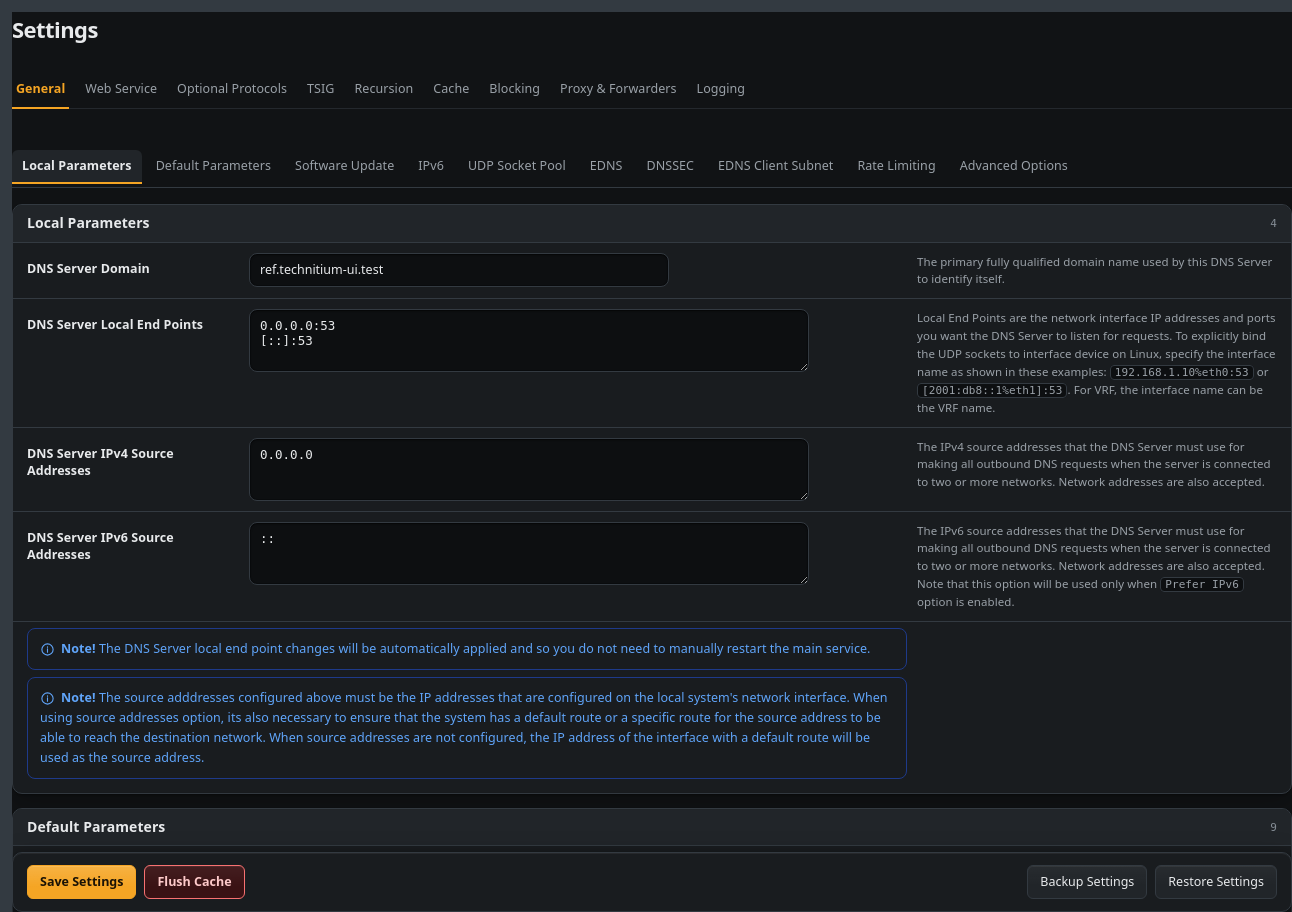
Scenario: Settings: saving › a server error comes out with its errorMessage under the Error! title
Click the button "Save Settings" at (82, 882), box [27, 865, 136, 899]
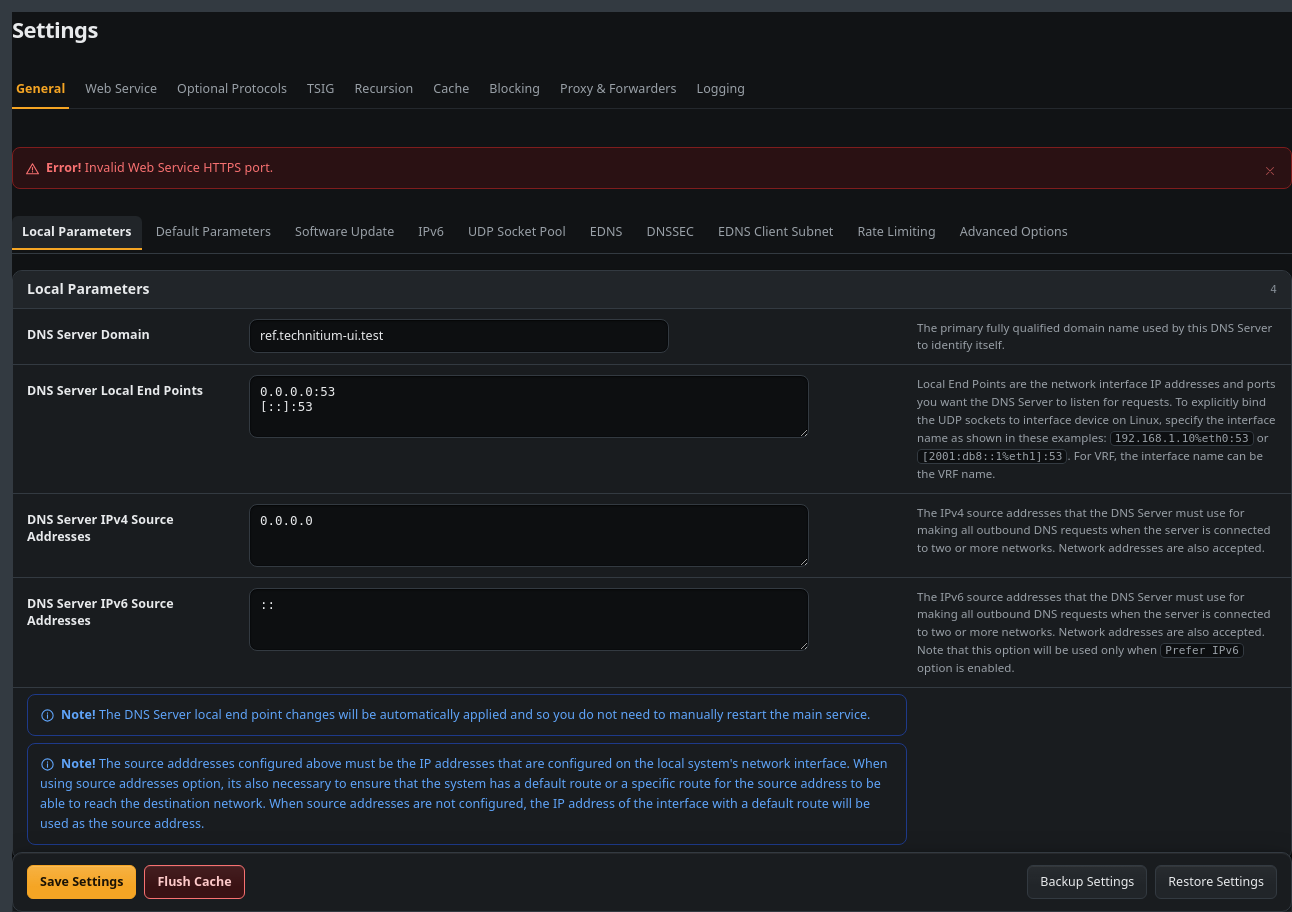
Expected: the text "Error!" is shown, [46, 160, 82, 176]
Expected: the text "Invalid Web Service HTTPS port." is shown, [85, 160, 273, 176]
